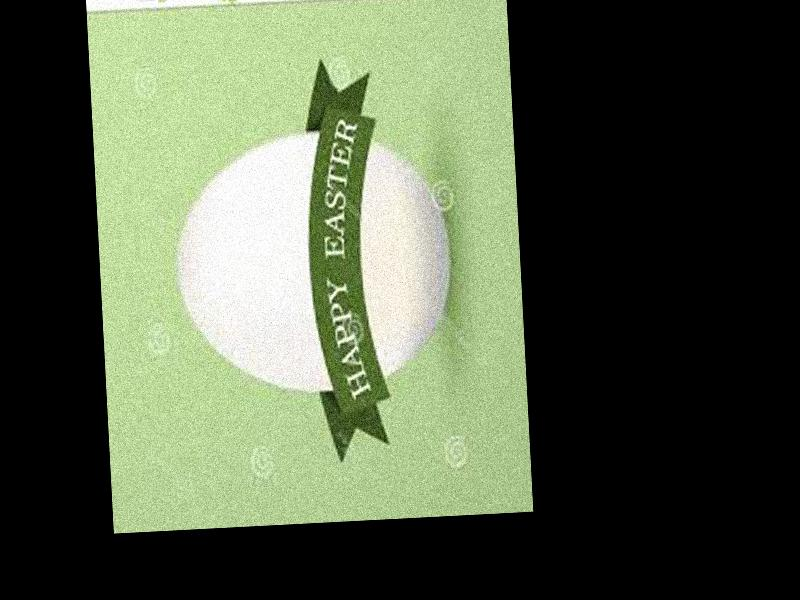Eggs: (170, 124, 455, 395)
